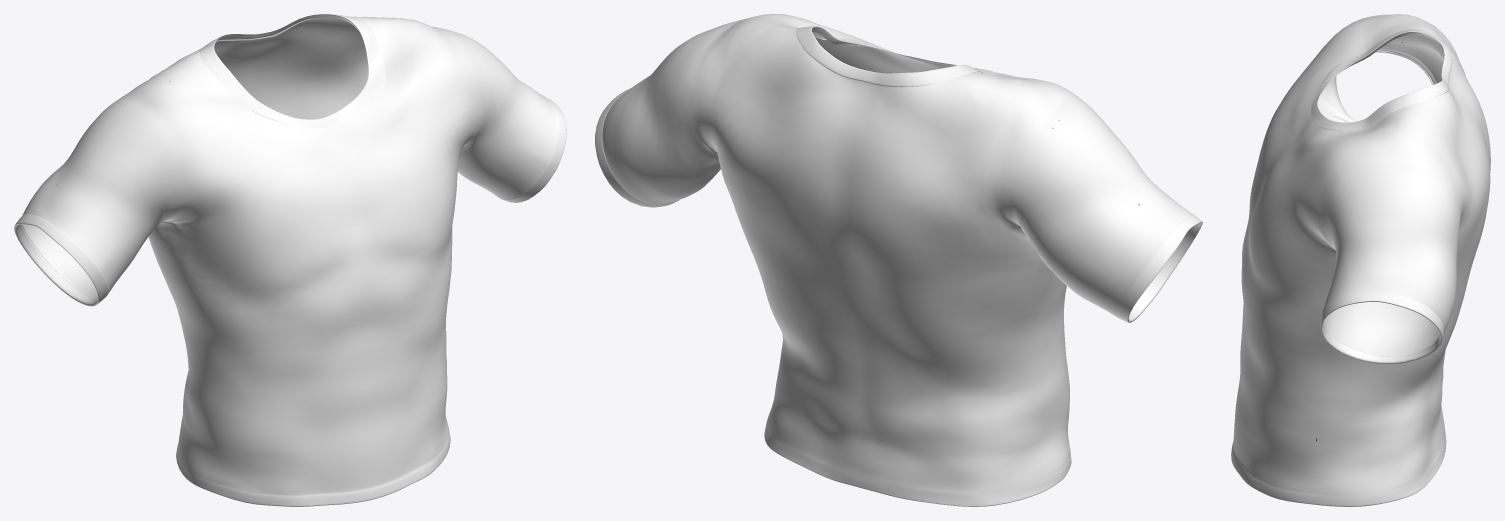
File: Shirt.glb
The picture shows the model from 3 angles, left to right: view 1: azimuth 30°, elevation 25°; view 2: azimuth 150°, elevation 25°; view 3: azimuth 270°, elevation 25°; orthographic projection. The views are drawn at different scales.
Visible parts, largest first — view 1: TShirt_for_Genesis.002; view 2: TShirt_for_Genesis.002; view 3: TShirt_for_Genesis.002.
Part boxes in pixels (x1,y1,x2,y2): TShirt_for_Genesis.002: [14, 14, 566, 506]; TShirt_for_Genesis.002: [595, 14, 1202, 506]; TShirt_for_Genesis.002: [1231, 14, 1490, 506].
Size of the model in its own units: 13.55 by 9.96 by 5.93.
Materials: 1 (1 with a texture image).
